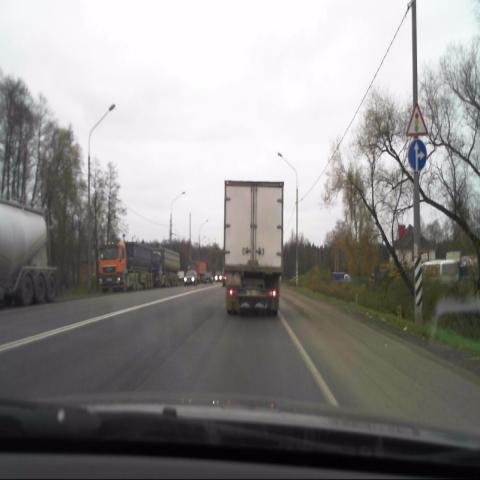1_8: (404, 101, 430, 137)
